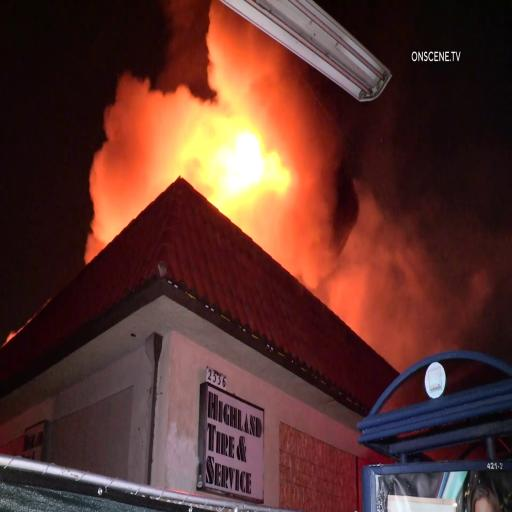fire: (222, 119, 274, 188)
smoke: (92, 75, 180, 179)
